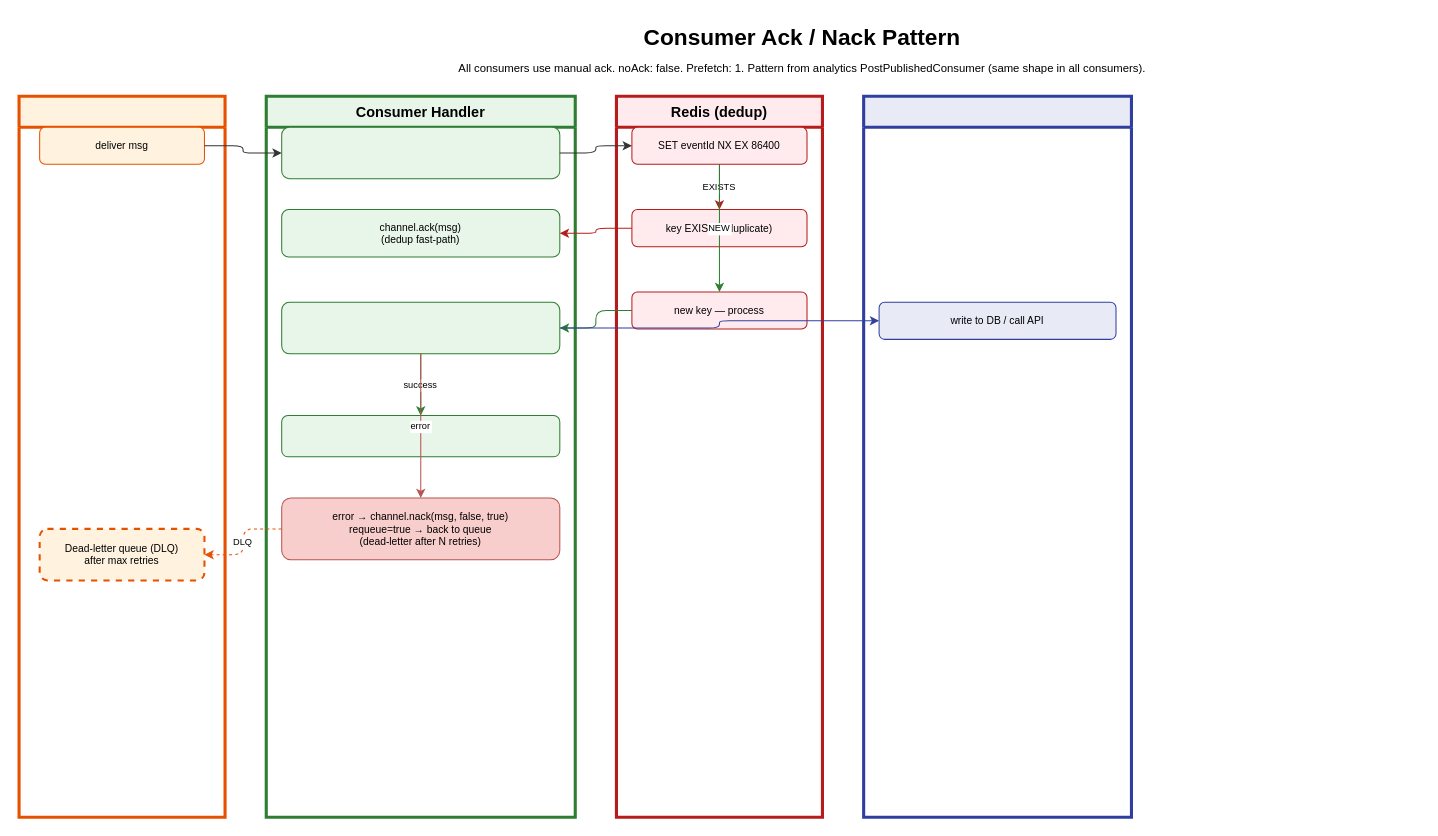
Image size: 1438x836. Some labels were removed from this diagram. Each missing label, with the box of its shape:
@EventPattern handler fires extract data + eventId from msg: (281, 126, 560, 179)
Downstream (DB/API): (862, 94, 1132, 818)
perform domain logic (fetch / write / upsert): (281, 301, 560, 354)
RabbitMQ: (17, 94, 226, 818)
success → channel.ack(msg): (281, 415, 560, 457)
